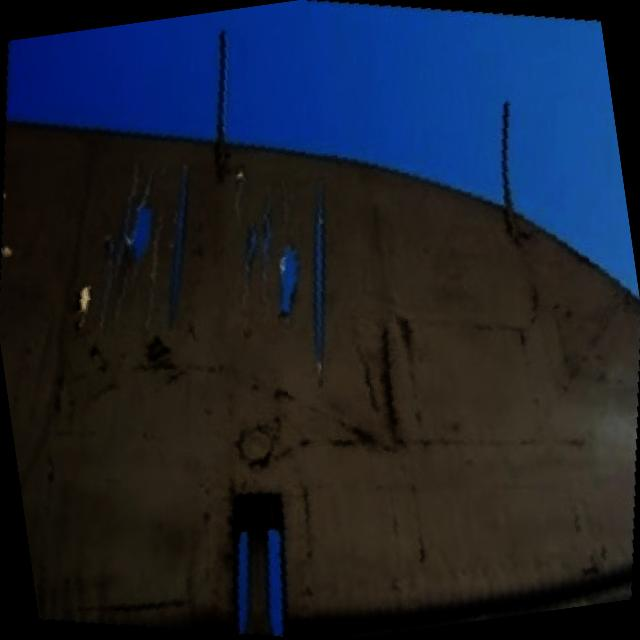crack: (72, 128, 358, 420)
